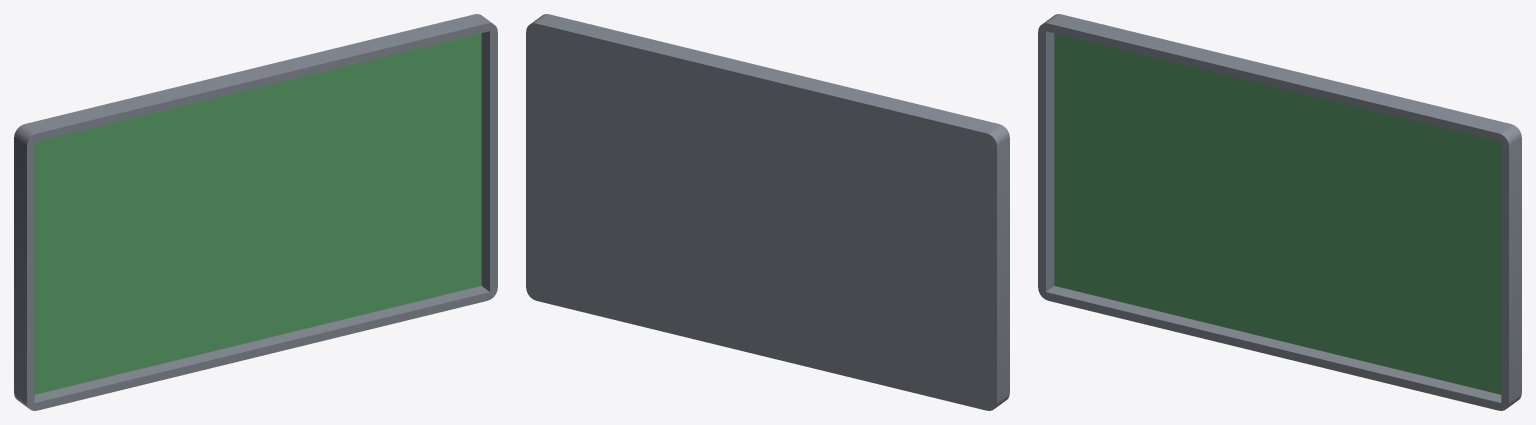
The model's file is MP_Bulletin_Board.fbx.
The picture shows the model from 3 angles, left to right: view 1: azimuth 30°, elevation 25°; view 2: azimuth 150°, elevation 25°; view 3: azimuth 330°, elevation 25°; orthographic projection.
Visible parts, largest first — view 1: Bulletin_Board; view 2: Bulletin_Board; view 3: Bulletin_Board.
Part boxes in pixels (box(x1,y1,x2,y2)): Bulletin_Board: box(14, 14, 497, 410); Bulletin_Board: box(526, 14, 1009, 410); Bulletin_Board: box(1038, 14, 1521, 410).
Bounding box in the file's own units: 128 × 72.24 × 6.02.
